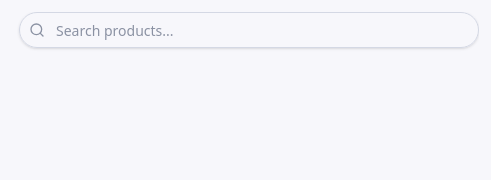
Test: SearchBar › pressing Enter with no suggestion highlighted goes to the full results page and records the search
Later steps or results of the test are not shown.
In the dropdown: {"x": 249, "y": 30} [19,12,479,48], type "hammer"
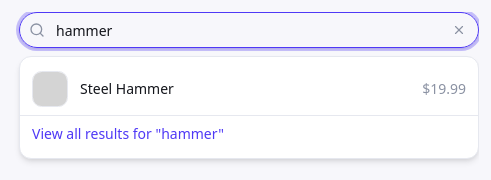
expect the text "Steel Hammer" is shown: met, box [80,79,174,98]
